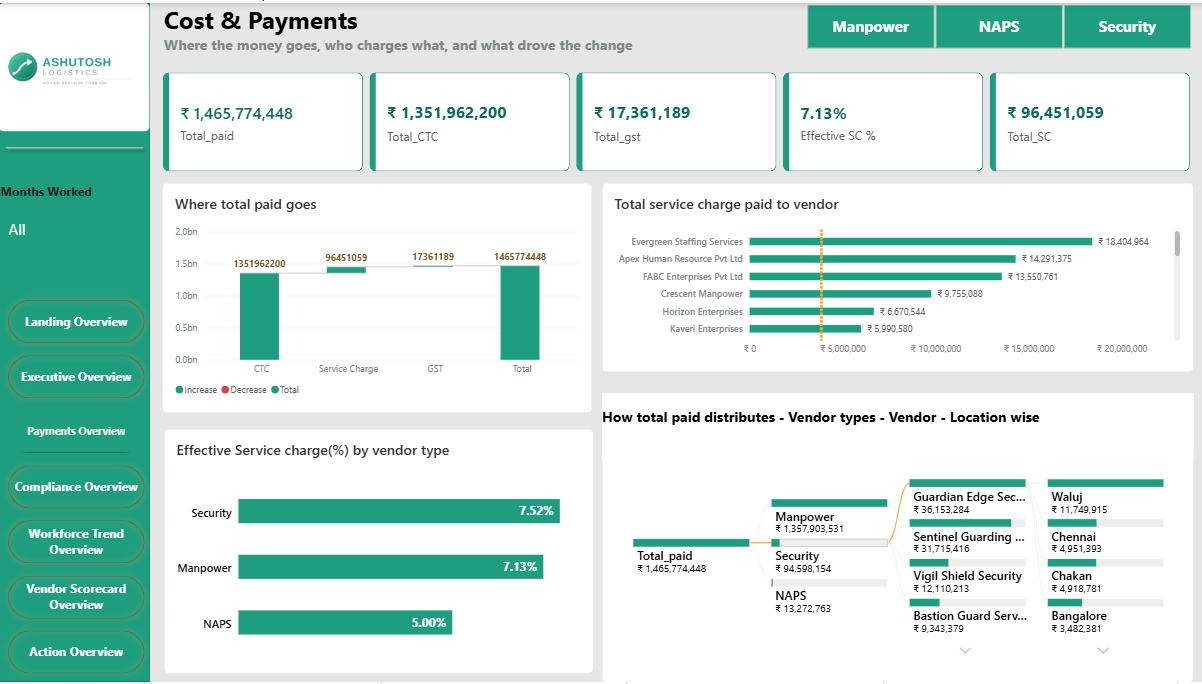

The dashboard page shown, as its layout file describes it:
{"tool":"powerbi","page":{"name":"Payments Overview","canvas":[1600,900],"ordinal":2},"visuals":[{"type":"shape","box":[0,0,200,900],"z":0},{"type":"textbox","box":[217.8,0,646.7,84],"z":1000},{"type":"slicer","title":"Months Worked","fields":{"Values":["public dim_date.month_name"]},"box":[1.8,238.1,199.6,84],"z":2000},{"type":"image","box":[0,0,199.6,169.8],"z":3000},{"type":"slicer","title":"Vendor Type","fields":{"Values":["public dim_vendor.vendor_type"]},"box":[1050.6,0,549.8,63],"z":4000},{"type":"shape","box":[0,183.8,200,15.4],"z":5000},{"type":"cardVisual","fields":{"Data":["Page 1.Total_paid","Page 1.Total_CTC","Page 1.Total_gst","Page2.Effective SC %","Page 1.Total_SC"]},"box":[217.1,91,1365.7,133.1],"z":6000},{"type":"waterfallChart","title":"Where total paid goes","fields":{"Category":["Components.Component"],"Y":["Page2.component_value"]},"box":[217.1,238.1,569.1,304.7],"z":7000},{"type":"clusteredBarChart","title":"Total service charge paid to vendor","fields":{"Category":["public dim_vendor.vendor_name"],"Y":["Page 1.Total_SC"]},"box":[799.3,238.4,783.9,250.4],"z":8000},{"type":"clusteredBarChart","title":"Effective Service charge(%) by vendor type","fields":{"Category":["public dim_vendor.vendor_type"],"Y":["Page2.Effective SC %"]},"box":[217.8,564.3,569.5,324.2],"z":9000},{"type":"decompositionTreeVisual","fields":{"Analyze":["Page 1.Total_paid"],"ExplainBy":["public dim_vendor.vendor_type","public dim_vendor.vendor_name","public dim_location.location_name"]},"box":[799.3,516.3,783.9,384.2],"z":10000},{"type":"pageNavigator","box":[3.8,385.1,197.2,514.7],"z":11000},{"type":"shape","box":[799.3,516.3,783.9,87.5],"z":12000},{"type":"textbox","box":[799.3,516.3,783.9,72],"z":13000}]}

Visuals, with their boxes on the page's 1600x900 design canvas (x1, y1, x2, y2). These are canvas units, not pixel positions in the 1202x684 screenshot, which may show the page scaled, cropped or inside an application window:
shape: <bbox>0, 0, 200, 900</bbox>
textbox: <bbox>218, 0, 864, 84</bbox>
"Months Worked" slicer: <bbox>2, 238, 201, 322</bbox>
image: <bbox>0, 0, 200, 170</bbox>
"Vendor Type" slicer: <bbox>1051, 0, 1600, 63</bbox>
shape: <bbox>0, 184, 200, 199</bbox>
cardVisual - Page 1.Total_paid x Page 1.Total_CTC: <bbox>217, 91, 1583, 224</bbox>
"Where total paid goes" waterfallChart: <bbox>217, 238, 786, 543</bbox>
"Total service charge paid to vendor" clusteredBarChart: <bbox>799, 238, 1583, 489</bbox>
"Effective Service charge(%) by vendor type" clusteredBarChart: <bbox>218, 564, 787, 888</bbox>
decompositionTreeVisual - Page 1.Total_paid x public dim_vendor.vendor_type: <bbox>799, 516, 1583, 900</bbox>
pageNavigator: <bbox>4, 385, 201, 900</bbox>
shape: <bbox>799, 516, 1583, 604</bbox>
textbox: <bbox>799, 516, 1583, 588</bbox>
